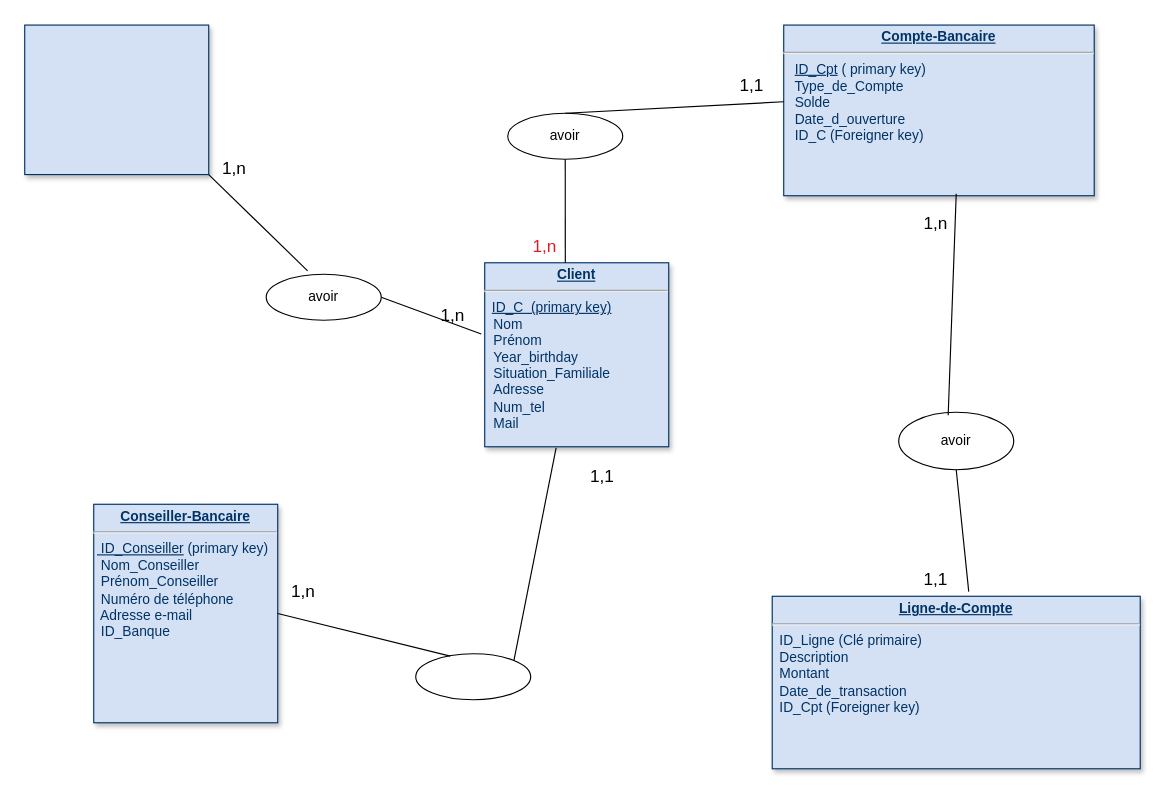
The diagram is 1167 pixels wide and 797 high, and some of its shapes have lost their labels. Each missing label, with the centre of its shape:
"Banque ID_Banque (Clé primaire) Nom_Banque Adrs Phone_Number" goes at point (117, 101).
"gerer" goes at point (473, 676).
